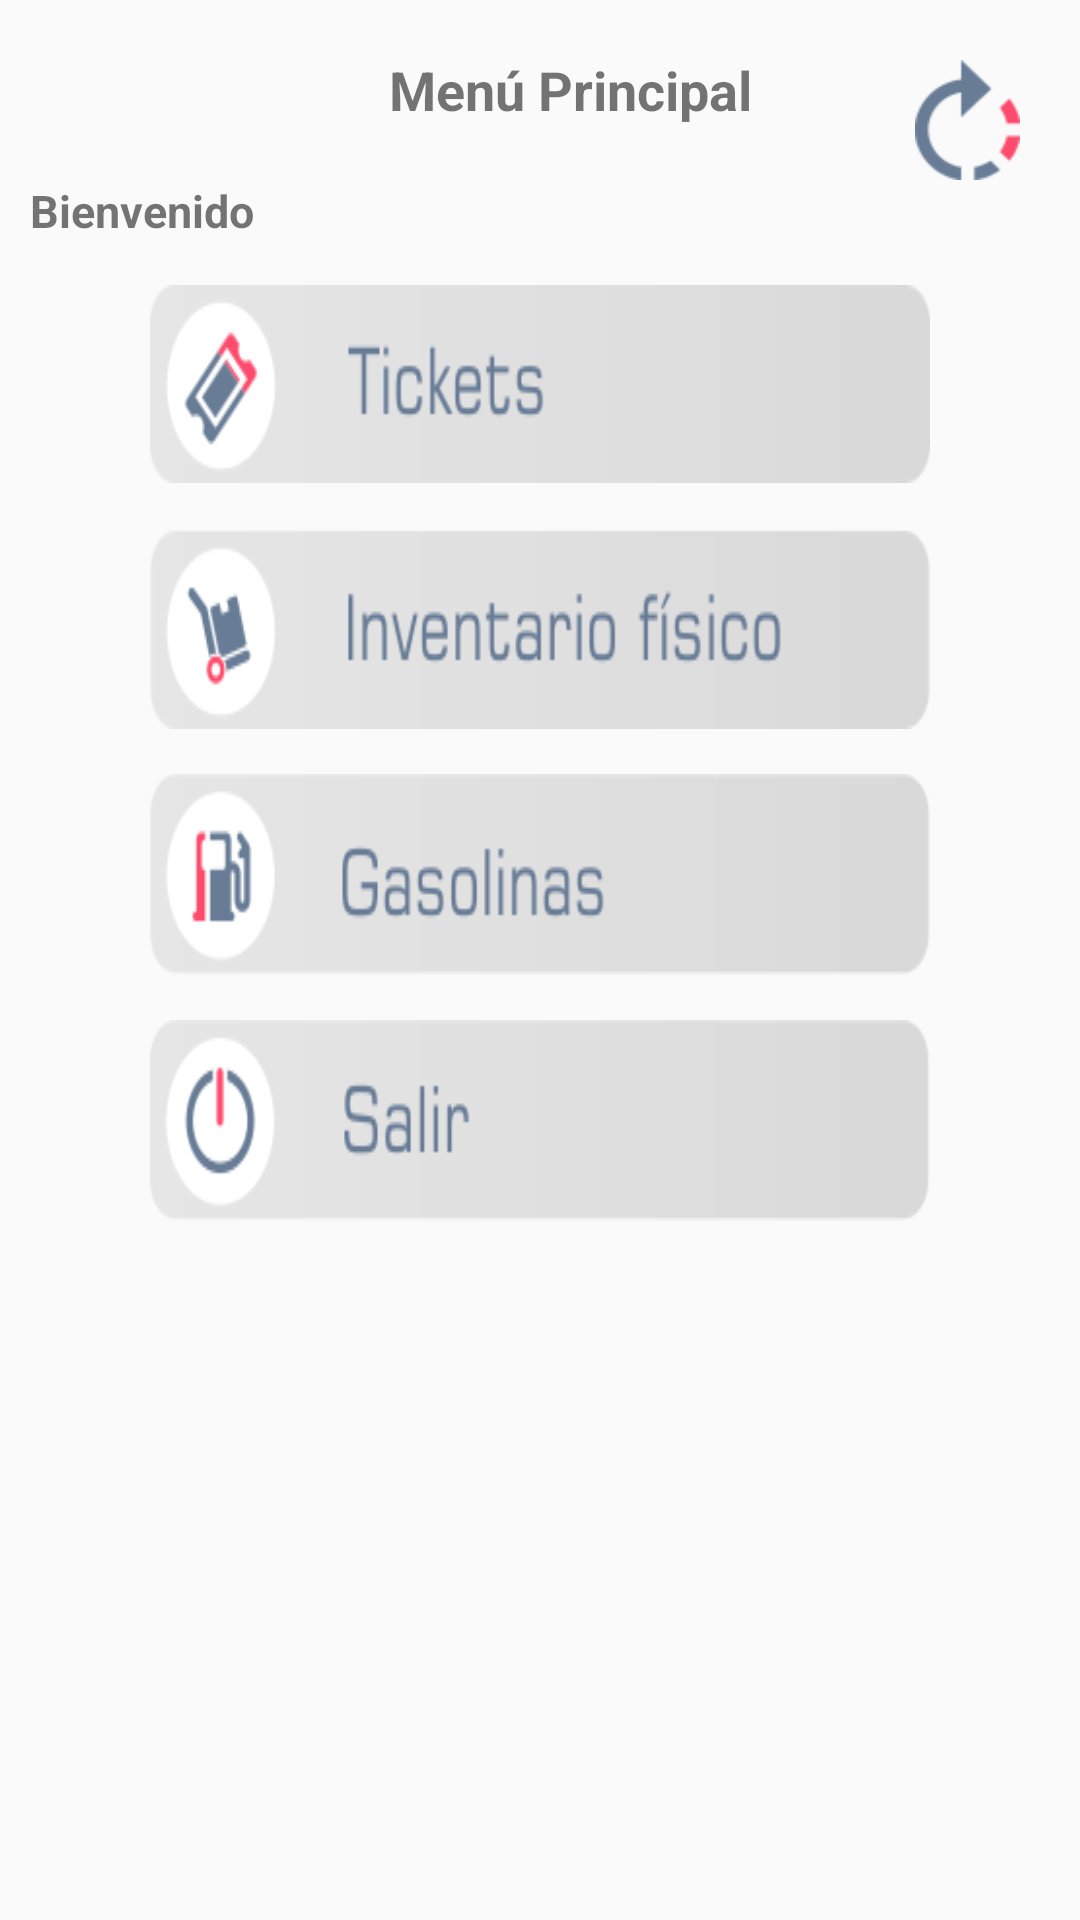

Where icons sit on this 1080x1920 app screen, as Rect(x1, y1, x2, y2):
cincro: Rect(915, 60, 1020, 180)
